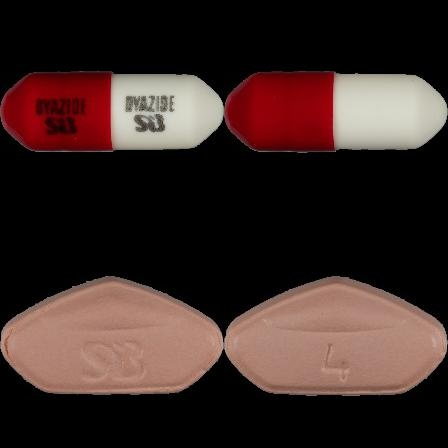55154-4510: (0, 0, 224, 224)
